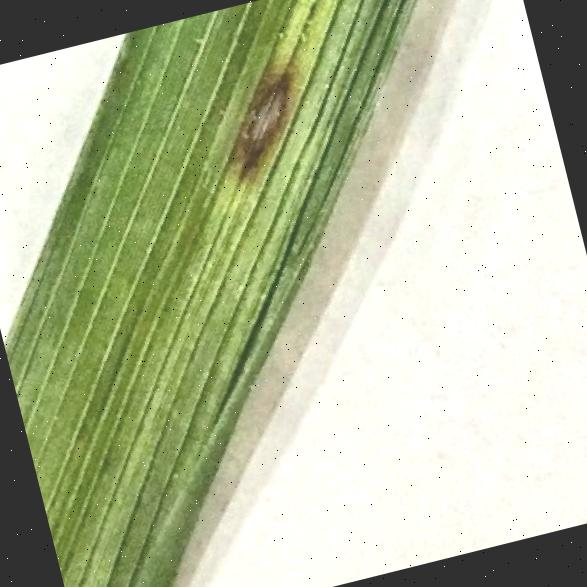Leaf_smut: (192, 56, 328, 197)
